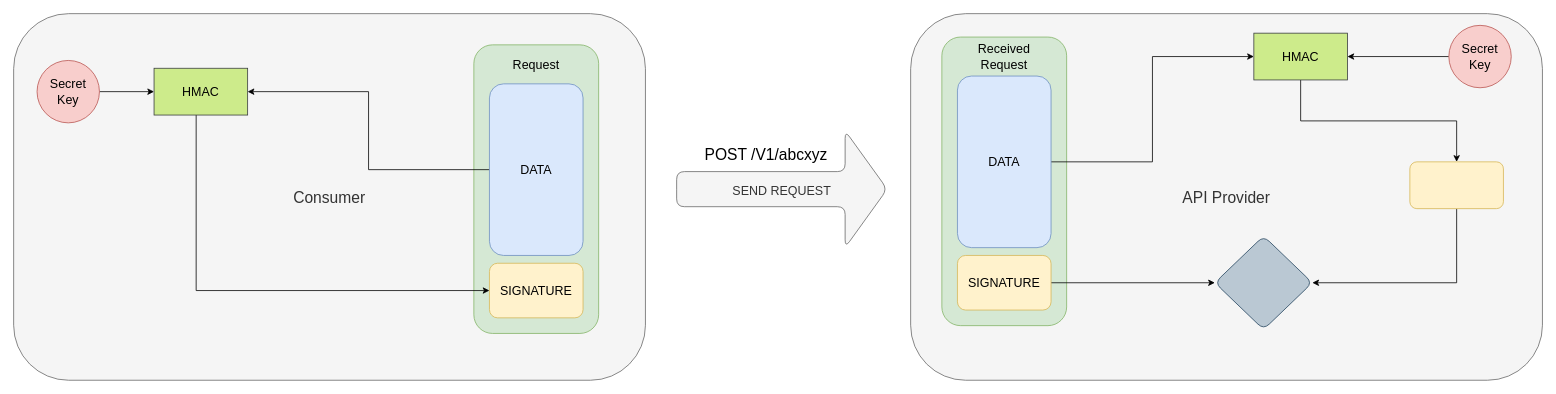
Image size: 1556x394. Some labels were removed from this diagram. Each missing label, with the centre of its shape:
Compare: [1263,282]
Recalculated Signature: [1456,185]
